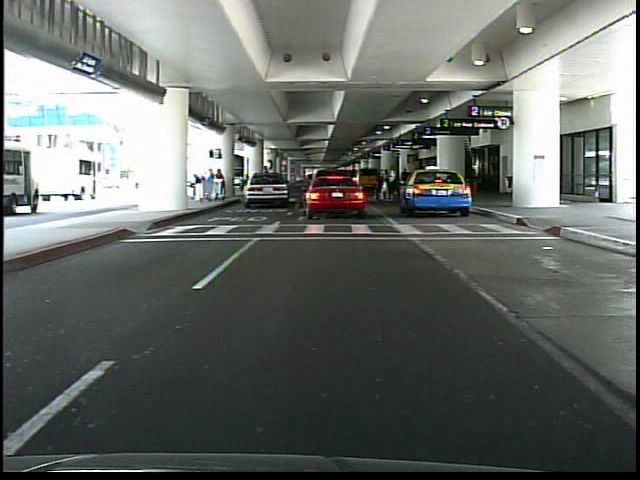person: (261, 165, 275, 204), (389, 166, 401, 201), (400, 166, 411, 203), (369, 173, 380, 202)
